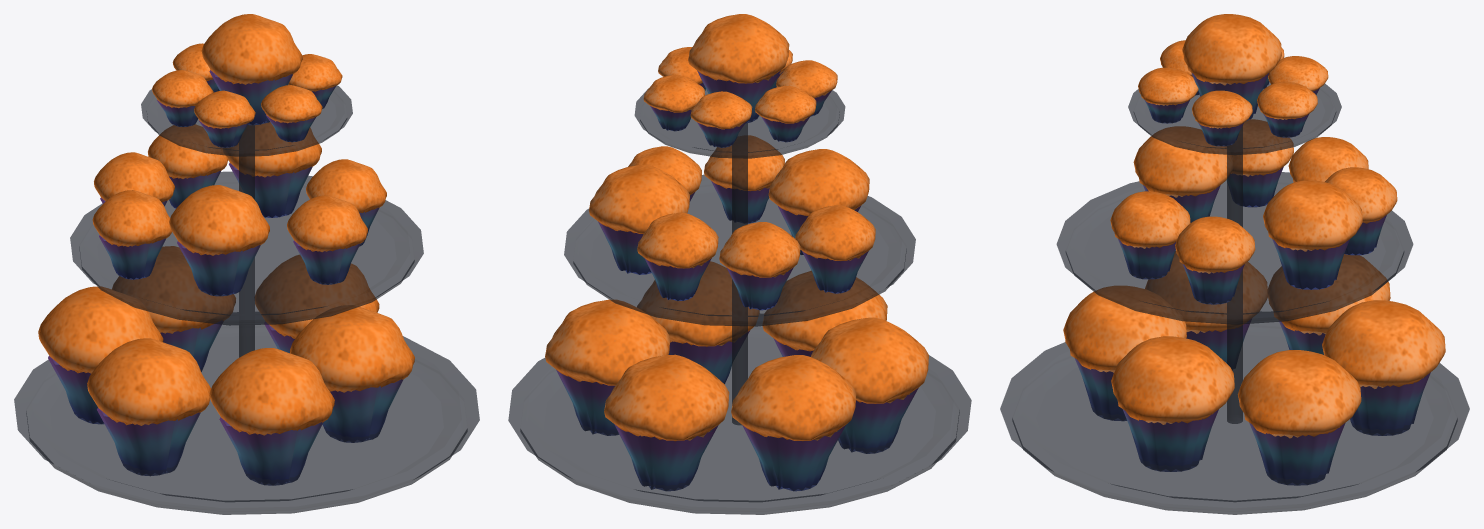
File: muffins.glb
3 views of the same model, side by side, from view 1: azimuth 30°, elevation 25°; view 2: azimuth 150°, elevation 25°; view 3: azimuth 270°, elevation 25° (orthographic).
Visible parts, largest first — view 1: pCylinder2, pCylinder3, muffin5_pSphere1, pSphere1_aiStandardSurface2_0.003, pSphere1_aiStandardSurface2_0.004, muffin5_pSphere6, pSphere1_aiStandardSurface2_0.002, muffin5_pSphere9, muffin5_pSphere5, pSphere1_aiStandardSurface2_0.001, pSphere1, pCylinder4 (+15 smaller); view 2: pCylinder2, pCylinder3, muffin5_pSphere1, pSphere1, pSphere1_aiStandardSurface2_0.001, pSphere1_aiStandardSurface2_0.004, muffin5_pSphere9, muffin5_pSphere5, pSphere1_aiStandardSurface2_0.003, muffin5_pSphere6, pCylinder4, pSphere1_aiStandardSurface2_0.002 (+15 smaller); view 3: pCylinder2, pCylinder3, pSphere1_aiStandardSurface2_0.002, pSphere1_aiStandardSurface2_0.001, pSphere1, muffin5_pSphere5, pSphere1_aiStandardSurface2_0.003, muffin5_pSphere9, muffin5_pSphere6, muffin5_pSphere1, pCylinder4, muffin5_pSphere4 (+16 smaller).
Boxes of the visible parts, x1,y1,x2,y2 form: pCylinder2: (14,312,479,514); pCylinder3: (70,171,423,325); muffin5_pSphere1: (38,286,163,424); pSphere1_aiStandardSurface2_0.003: (209,348,334,435); pSphere1_aiStandardSurface2_0.004: (87,338,211,425); muffin5_pSphere6: (169,185,269,296); pSphere1_aiStandardSurface2_0.002: (290,305,414,392); muffin5_pSphere9: (201,14,302,125); muffin5_pSphere5: (223,122,321,217); pSphere1_aiStandardSurface2_0.001: (255,255,379,338); pSphere1: (112,246,235,333); pCylinder4: (141,85,352,156); pCylinder2: (508,314,971,514); pCylinder3: (564,174,915,326); muffin5_pSphere1: (731,355,856,491); pSphere1: (604,354,729,441); pSphere1_aiStandardSurface2_0.001: (545,299,670,385); pSphere1_aiStandardSurface2_0.004: (810,317,928,403); muffin5_pSphere9: (688,14,789,123); muffin5_pSphere5: (589,164,689,274); pSphere1_aiStandardSurface2_0.003: (762,271,887,351); muffin5_pSphere6: (768,149,869,254); pCylinder4: (634,89,845,158); pSphere1_aiStandardSurface2_0.002: (637,261,759,346); pCylinder2: (1000,311,1469,514); pCylinder3: (1056,172,1413,324); pSphere1_aiStandardSurface2_0.002: (1111,336,1234,424); pSphere1_aiStandardSurface2_0.001: (1237,350,1361,438); pSphere1: (1322,300,1445,388); muffin5_pSphere5: (1263,180,1362,289); pSphere1_aiStandardSurface2_0.003: (1063,286,1186,372); muffin5_pSphere9: (1182,14,1281,120); muffin5_pSphere6: (1133,126,1233,222); muffin5_pSphere1: (1267,254,1390,354); pCylinder4: (1128,82,1341,155); muffin5_pSphere4: (1175,216,1255,304).
Bounding box in the file's own units: 9.35 × 8.94 × 9.35.
Materials: 3 (2 with a texture image).
